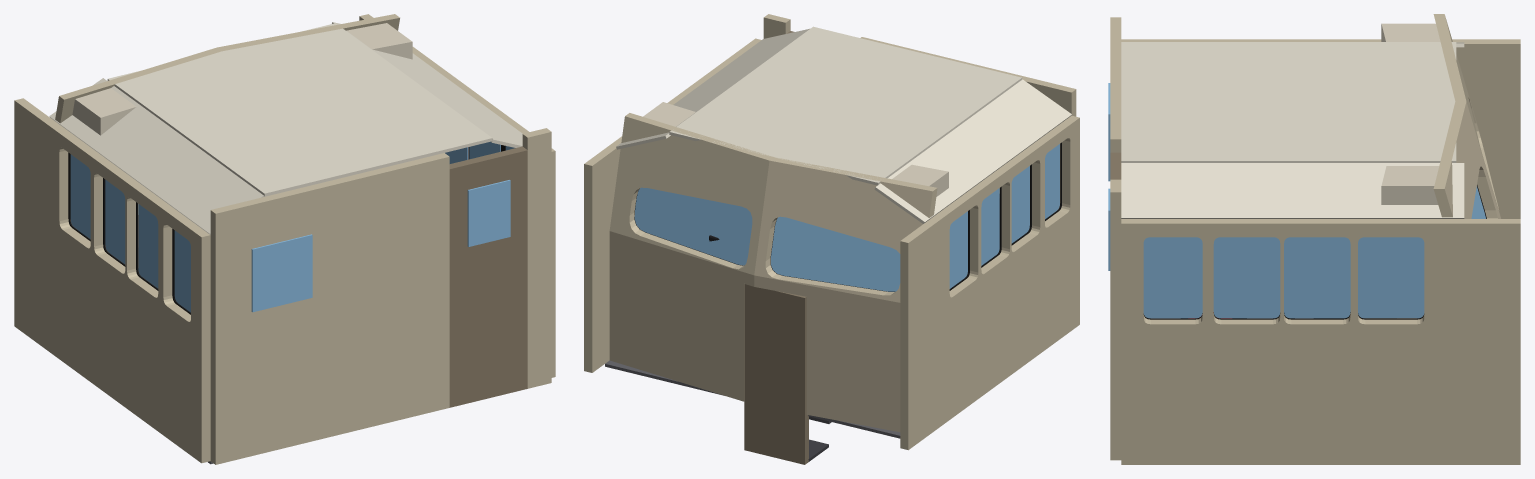
File: sd70ace.glb
The picture shows the model from 3 angles, left to right: view 1: azimuth 30°, elevation 25°; view 2: azimuth 150°, elevation 25°; view 3: azimuth 270°, elevation 25°; orthographic projection. The views are drawn at different scales.
Parts seen in each view (by area): view 1: wall_L, ceil_c, back_c, back_l, back_door, ceil_s-1, back_r, back_win, ceil_s1, back_doorwin, wall_R, overhead_l (+7 smaller); view 2: wall_L, ceil_c, front_low_r, front_low_l, front_rake_r, front_rake_l, front_door, ceil_s-1, wall_R, glass-1, glass1, ceil_s1 (+10 smaller); view 3: wall_R, ceil_c, ceil_s1, wall_L, sideglass_12, sideglass_10, sideglass_11, sideglass_13, front_rake_r, back_r, overhead_r, front_rake_l (+3 smaller).
Part boxes in pixels (<box>): wall_L: <box>14,98,210,463</box>; ceil_c: <box>107,23,492,196</box>; back_c: <box>331,153,449,435</box>; back_l: <box>210,181,335,464</box>; back_door: <box>449,146,527,407</box>; ceil_s-1: <box>49,78,264,234</box>; back_r: <box>522,128,551,388</box>; back_win: <box>251,234,312,312</box>; ceil_s1: <box>332,22,522,147</box>; back_doorwin: <box>467,180,510,246</box>; wall_R: <box>359,14,555,377</box>; overhead_l: <box>72,88,136,135</box>; wall_L: <box>900,115,1079,450</box>; ceil_c: <box>669,26,1022,185</box>; front_low_r: <box>609,231,744,401</box>; front_low_l: <box>806,285,900,432</box>; front_rake_r: <box>609,113,773,275</box>; front_rake_l: <box>754,157,937,302</box>; front_door: <box>744,284,808,464</box>; ceil_s-1: <box>874,79,1071,223</box>; wall_R: <box>584,38,761,372</box>; glass-1: <box>771,216,900,291</box>; glass1: <box>634,187,752,265</box>; ceil_s1: <box>616,28,809,149</box>; wall_R: <box>1121,219,1520,464</box>; ceil_c: <box>1121,42,1456,162</box>; ceil_s1: <box>1121,163,1464,218</box>; wall_L: <box>1121,39,1520,218</box>; sideglass_12: <box>1213,237,1280,318</box>; sideglass_10: <box>1358,237,1424,318</box>; sideglass_11: <box>1284,237,1350,318</box>; sideglass_13: <box>1143,237,1202,318</box>; front_rake_r: <box>1433,101,1500,218</box>; back_r: <box>1110,179,1121,460</box>; overhead_r: <box>1381,166,1439,204</box>; front_rake_l: <box>1433,14,1501,218</box>.
Bounding box in the file's own units: 3 × 2.49 × 2.83.
